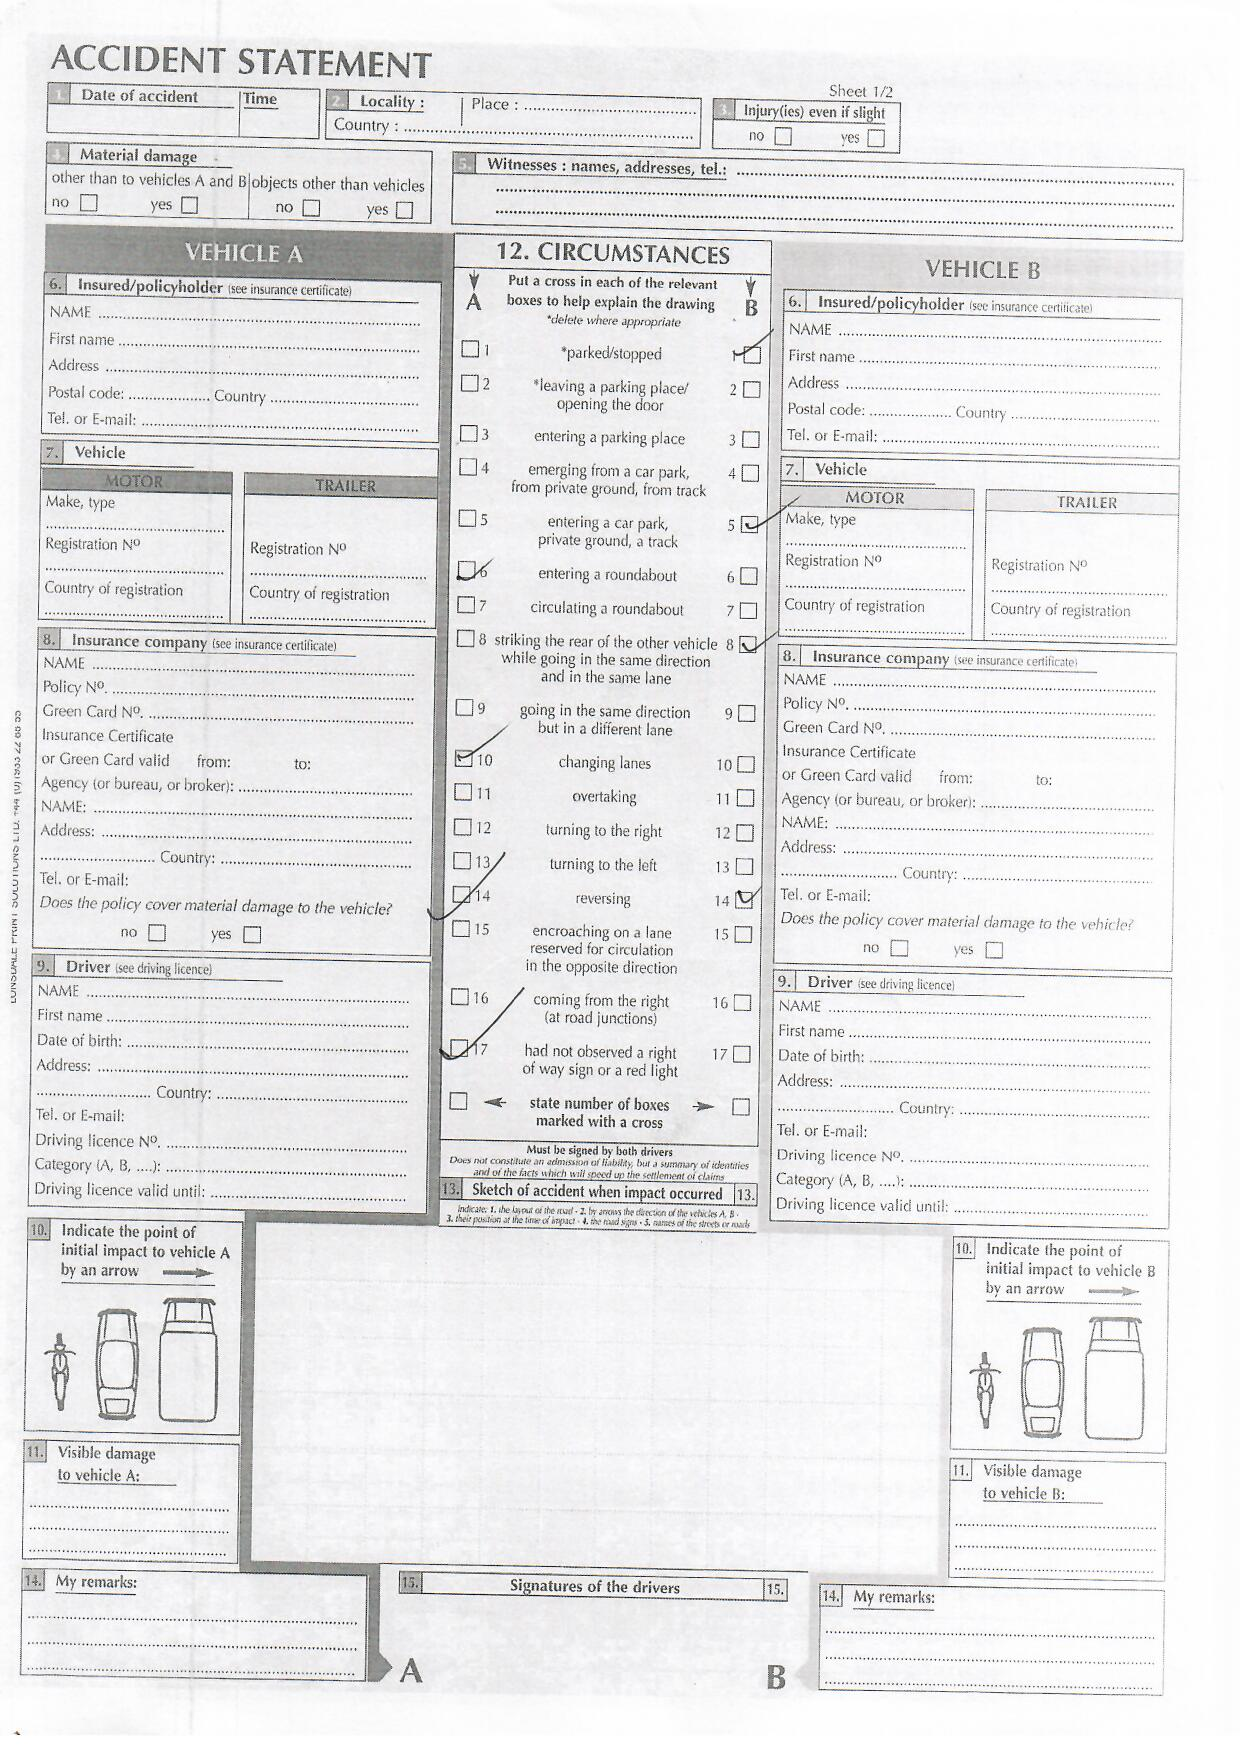a: (737, 511, 764, 538), (451, 745, 476, 772), (738, 342, 766, 366), (450, 883, 475, 909), (454, 558, 480, 583), (735, 631, 760, 656), (446, 1036, 470, 1062), (731, 889, 756, 913)
